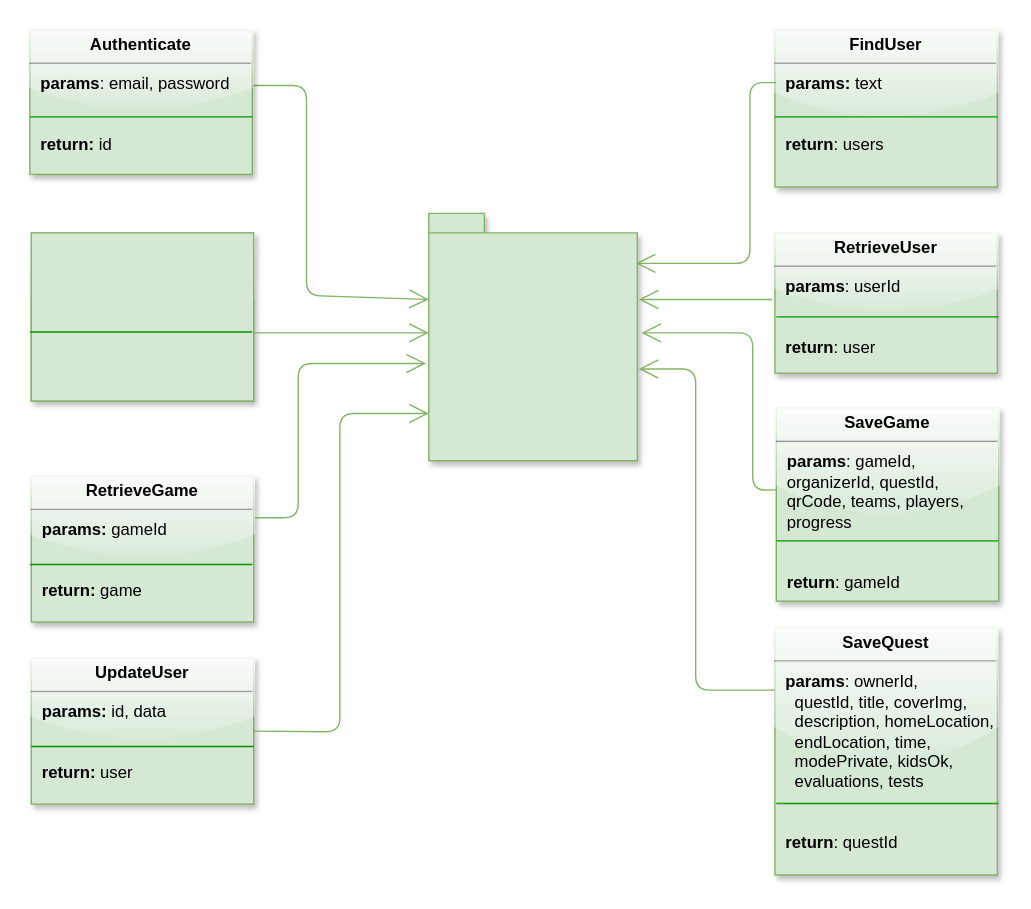
This 1031x909 diagram has some shape labels left out. The shapes that lost their labels are listed below. From the top down, each one's centre as x and y in pixels, then its label:
At (x=142, y=316): "RegisterUser params : fullname, email, password return: {}".
At (x=534, y=338): "Logic (Javascript)".
